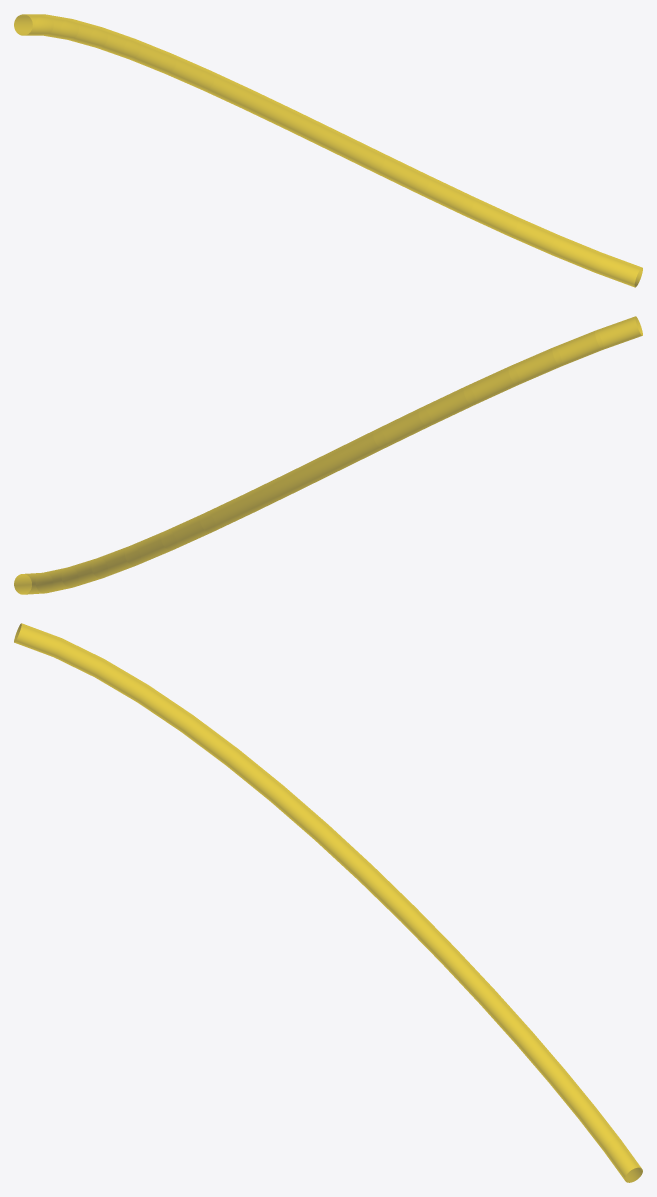
Rendered from Event_419990632_track_69.fbx.
3 views of the same model, one above another, from view 1: azimuth 30°, elevation 25°; view 2: azimuth 150°, elevation 25°; view 3: azimuth 330°, elevation 25° (orthographic). The views are drawn at different scales.
Parts seen in each view (by area): view 1: Model; view 2: Model; view 3: Model.
Part boxes in pixels (x1=…): Model: x1=14, y1=14, x2=642, y2=287; Model: x1=14, y1=316, x2=642, y2=594; Model: x1=14, y1=623, x2=642, y2=1182.
Size of the model in its own units: 1.36 by 0.8811 by 0.207.
